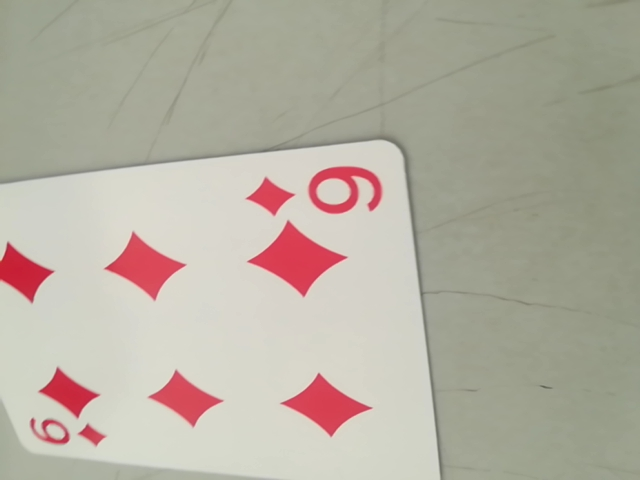fk 6: (251, 157, 389, 226), (20, 412, 108, 456)
